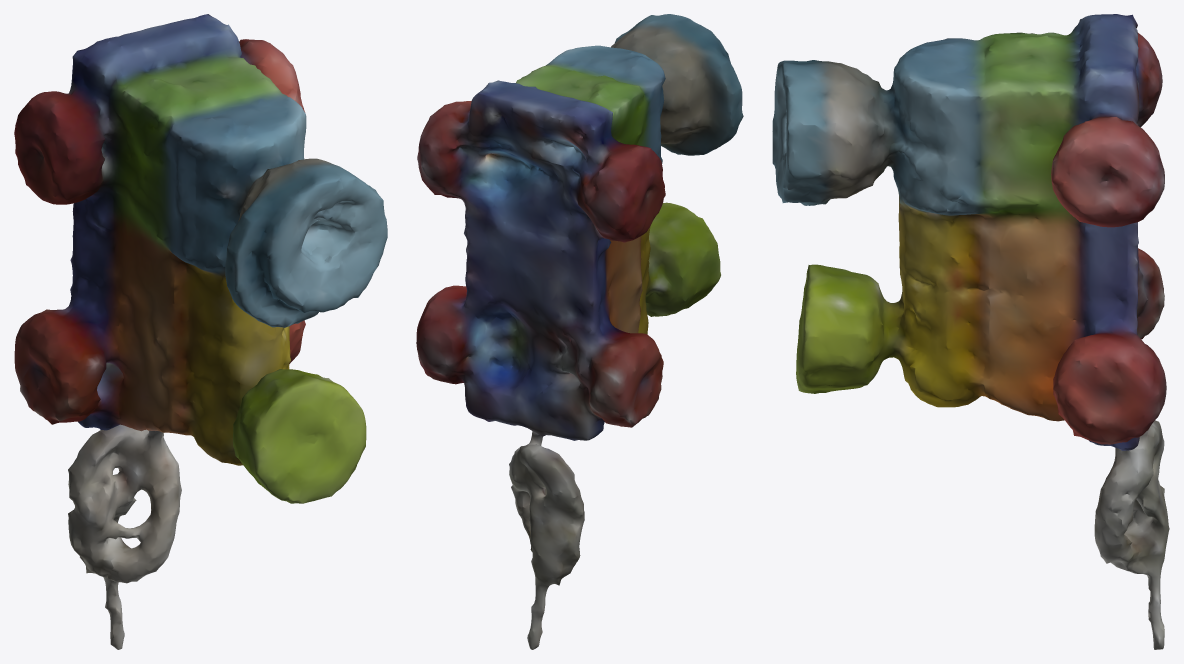
Rendered from train.glb.
3 renders of one model, left to right at view 1: azimuth 30°, elevation 25°; view 2: azimuth 150°, elevation 25°; view 3: azimuth 270°, elevation 25°, orthographic. The views are drawn at different scales.
Size of the model in its own units: 0.4288 by 0.9964 by 0.5795.
